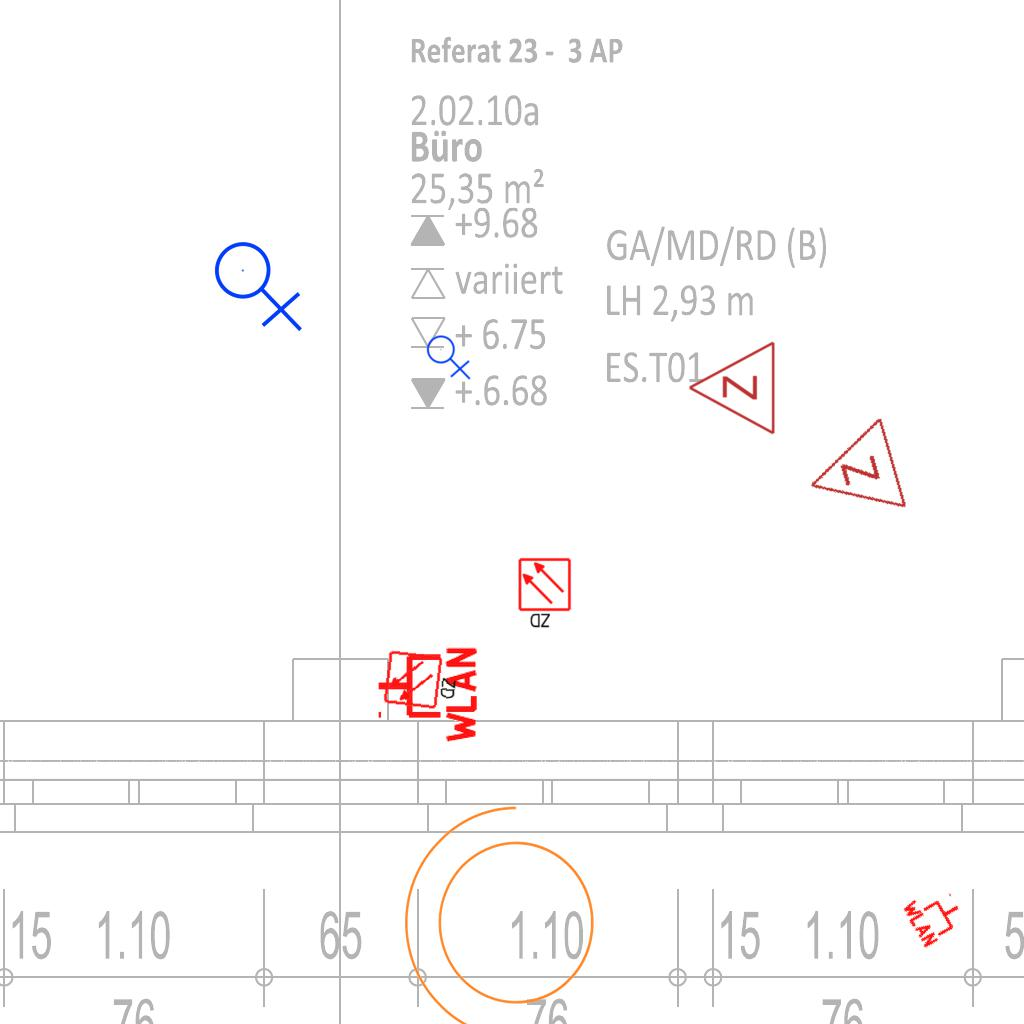Elektroanschluss_allgemein_230V_Geraeteanschlussdose_230V: (213, 233, 307, 332), (426, 331, 473, 380)
Scheinwerfer_fuer_Alarmbeleuchtung: (394, 797, 619, 1024)
WLAN: (374, 643, 479, 747), (899, 879, 971, 951)
ZD_Melder_in_Zwischendecke_mit_Revisionsoeffnung_mind_40_x_40_cm: (382, 647, 463, 713), (517, 557, 574, 631)
Zimmersignalleuchte: (791, 414, 915, 536), (682, 340, 782, 438)
